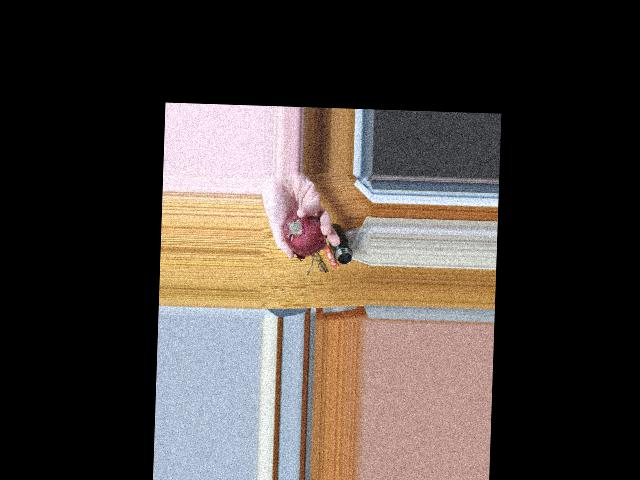onion: (280, 207, 321, 253)
